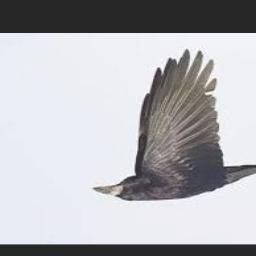Crow: (91, 52, 256, 201)
